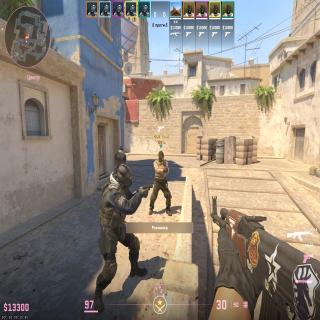CT-Body: (99, 164, 133, 292), (115, 146, 126, 164)
CT-Head: (118, 163, 132, 188), (119, 146, 123, 152)
T-Body: (153, 151, 169, 214)
T-Head: (158, 151, 164, 162)
